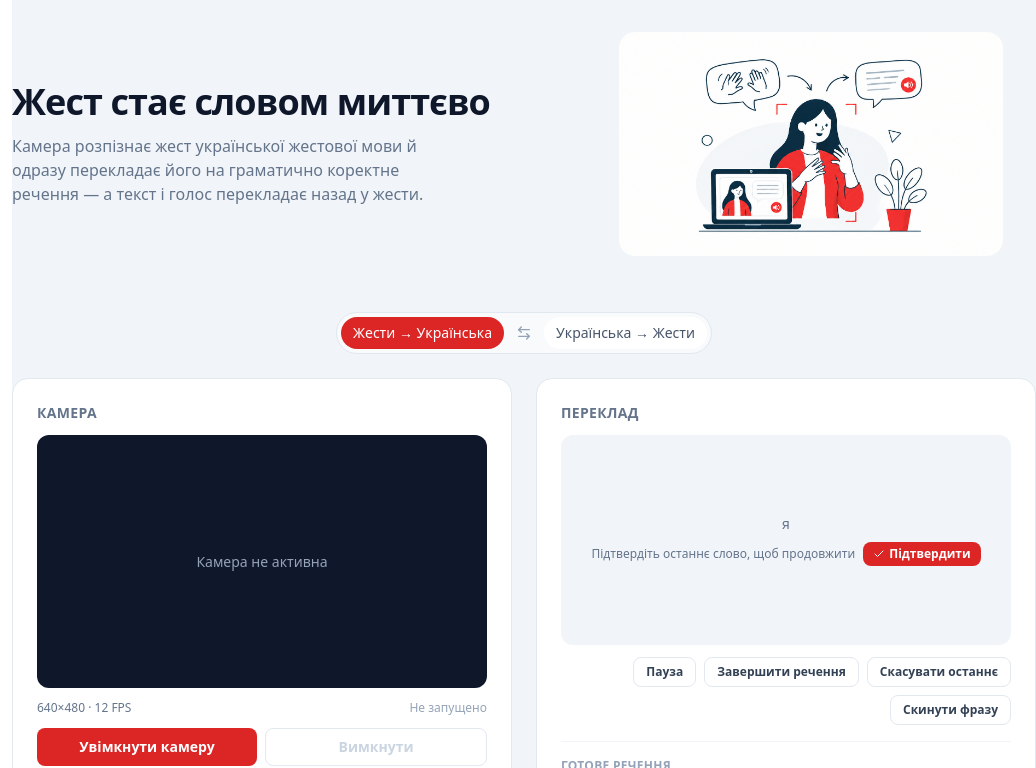
Test: TranslatorView › 'Скинути фразу' clears the current utterance without composing anything
The width and height of the screenshot is (1036, 768).
expect the element with test id "live-sentence-status" shows "я": met, box [782, 514, 790, 533]
What coordinates should you click on to do the following:
click the button "Скинути фразу"
I would click on:
 (950, 710)
Its box is [890, 695, 1011, 725].
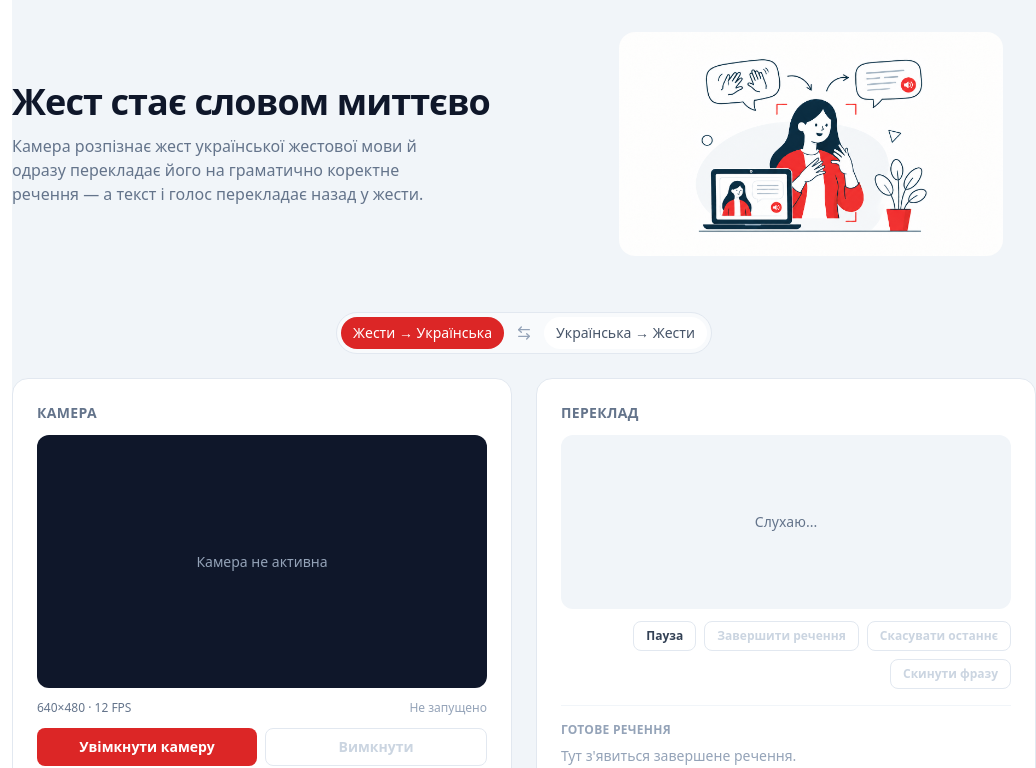
expect the element with test id "live-sentence-status" shows "Слухаю": met, box [755, 512, 817, 531]
